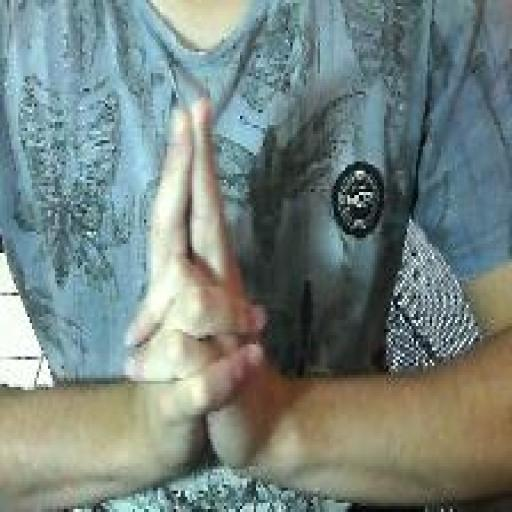Tora -tiger-: (121, 93, 272, 498)
